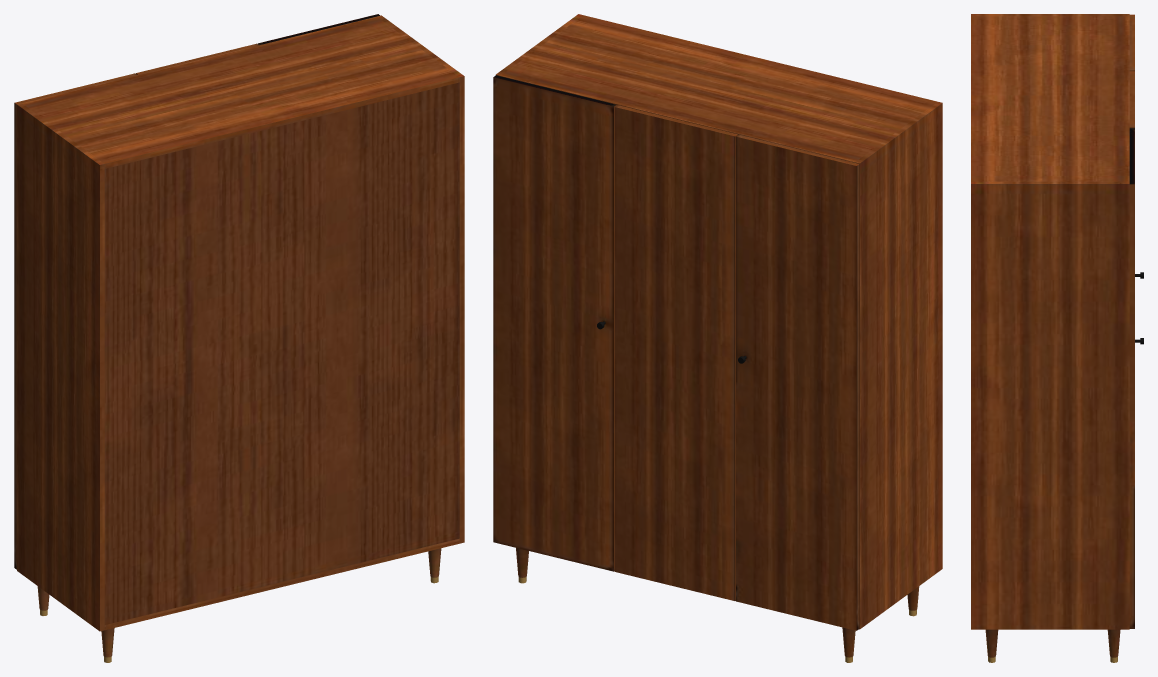
Rendered from wardrobe_3door_web.glb.
The picture shows the model from 3 angles, left to right: view 1: azimuth 30°, elevation 25°; view 2: azimuth 150°, elevation 25°; view 3: azimuth 270°, elevation 25°; orthographic projection. The views are drawn at different scales.
Visible parts, largest first — view 1: Wardrobe3Door_Body, Door_1_3_Mesh; view 2: Wardrobe3Door_Body, Door_1_3_Mesh, Door_1_2_Mesh, Door_1_1_Mesh; view 3: Wardrobe3Door_Body, Door_1_1_Mesh, Door_1_3_Mesh, Door_1_2_Mesh.
Part boxes in pixels (bbox=[...]): Wardrobe3Door_Body: bbox=[17, 15, 464, 657]; Door_1_3_Mesh: bbox=[14, 73, 136, 569]; Wardrobe3Door_Body: bbox=[496, 14, 942, 657]; Door_1_3_Mesh: bbox=[736, 134, 859, 630]; Door_1_2_Mesh: bbox=[614, 105, 737, 600]; Door_1_1_Mesh: bbox=[493, 75, 616, 571]; Wardrobe3Door_Body: bbox=[971, 14, 1129, 657]; Door_1_1_Mesh: bbox=[1129, 128, 1134, 628]; Door_1_3_Mesh: bbox=[1129, 14, 1134, 71]; Door_1_2_Mesh: bbox=[1129, 71, 1134, 127].
Bounding box in the file's own units: 1.35 × 1.8 × 0.58.
Materials: 3 (3 with a texture image).
